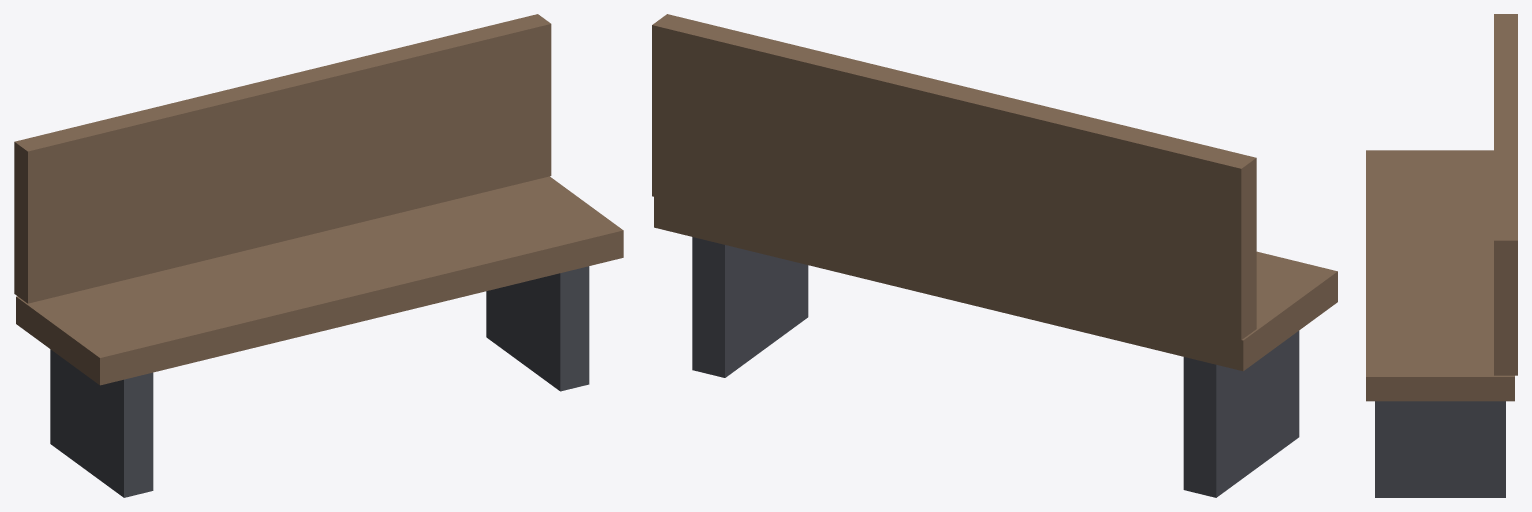
Rendered from prop_bench.glb.
The picture shows the model from 3 angles, left to right: view 1: azimuth 30°, elevation 25°; view 2: azimuth 150°, elevation 25°; view 3: azimuth 270°, elevation 25°; orthographic projection. The views are drawn at different scales.
Parts seen in each view (by area): view 1: seat, legs; view 2: seat, legs; view 3: seat, legs.
Part boxes in pixels (left/top/right/bottom): seat: left=14, top=14, right=623, bottom=385; legs: left=50, top=266, right=589, bottom=497; seat: left=652, top=14, right=1337, bottom=371; legs: left=692, top=237, right=1299, bottom=497; seat: left=1366, top=14, right=1517, bottom=401; legs: left=1375, top=401, right=1505, bottom=497.
Size of the model in its own units: 1.8 by 1 by 0.51.
